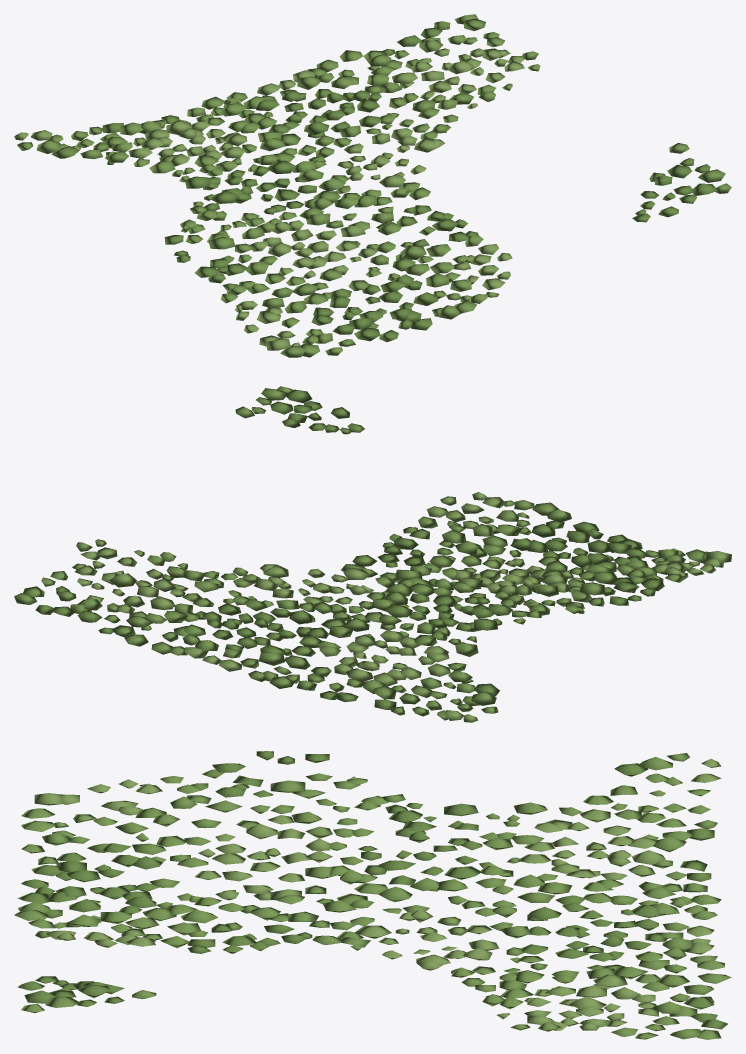
Rendered from canopy-1-4--4.glb.
3 renders of one model, top to bottom at view 1: azimuth 30°, elevation 25°; view 2: azimuth 150°, elevation 25°; view 3: azimuth 270°, elevation 25°, orthographic. The views are drawn at different scales.
Size of the model in its own units: 510 by 87.5 by 518.
Materials: 1 (1 with a texture image).
